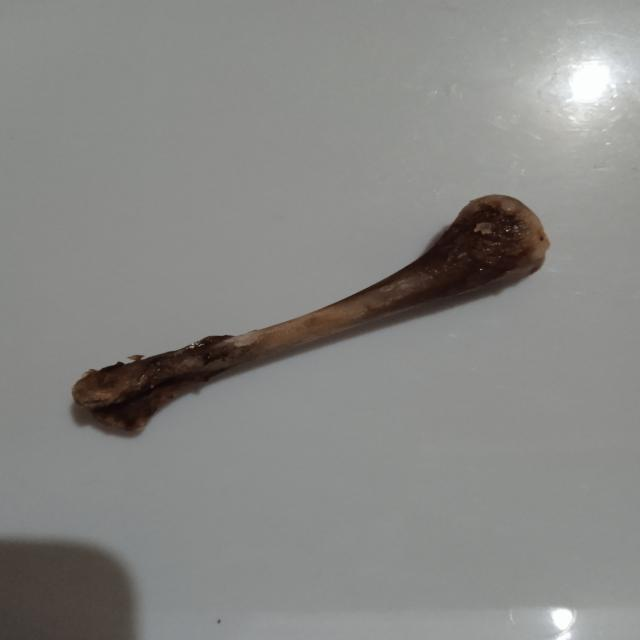bone: (54, 181, 571, 443)
